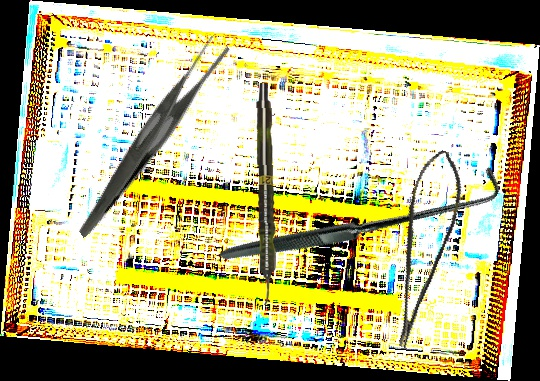Dressing Forceps: (32, 32, 269, 238)
Handpiece: (254, 82, 277, 306)
Hook Surgical: (218, 75, 507, 358)
Micro Scissor: (362, 144, 477, 351)
